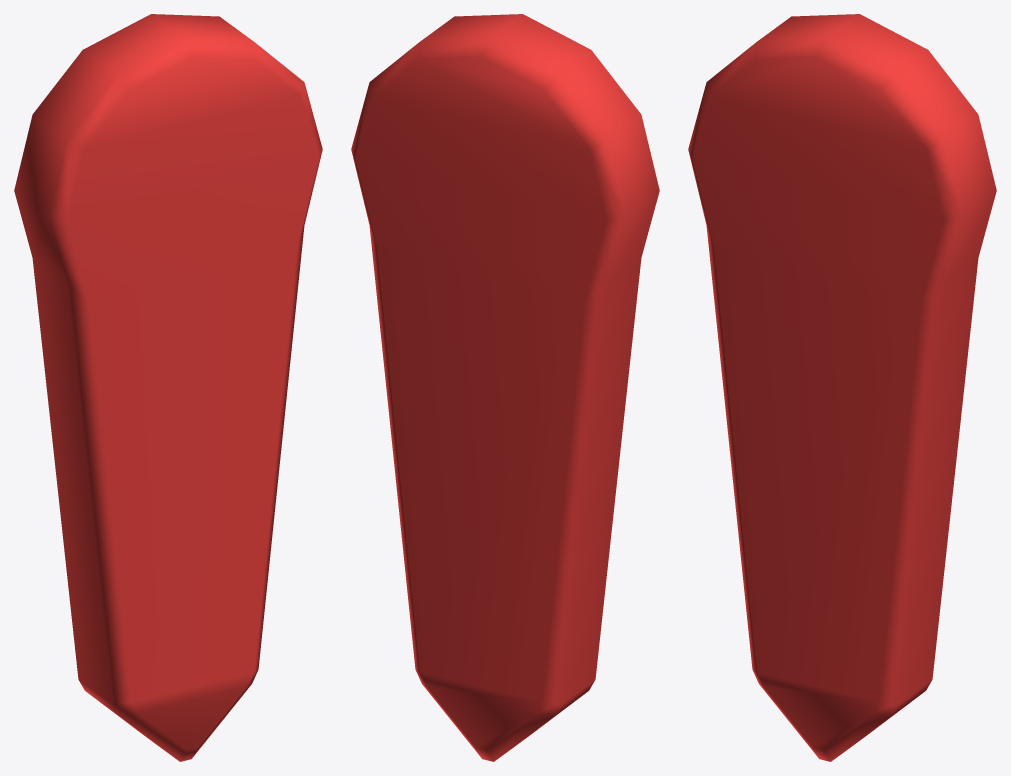
Rendered from Chess_Clock_FallFlag_02.fbx.
3 renders of one model, left to right at view 1: azimuth 30°, elevation 25°; view 2: azimuth 150°, elevation 25°; view 3: azimuth 330°, elevation 25°, orthographic.
Visible parts, largest first — view 1: Chess_Clock_FallFlag_02; view 2: Chess_Clock_FallFlag_02; view 3: Chess_Clock_FallFlag_02.
Boxes of the visible parts, bbox=[...] form: Chess_Clock_FallFlag_02: bbox=[14, 14, 322, 761]; Chess_Clock_FallFlag_02: bbox=[351, 14, 659, 761]; Chess_Clock_FallFlag_02: bbox=[688, 14, 996, 761].
Size of the model in its own units: 0.2469 by 0.6212 by 0.0759.
